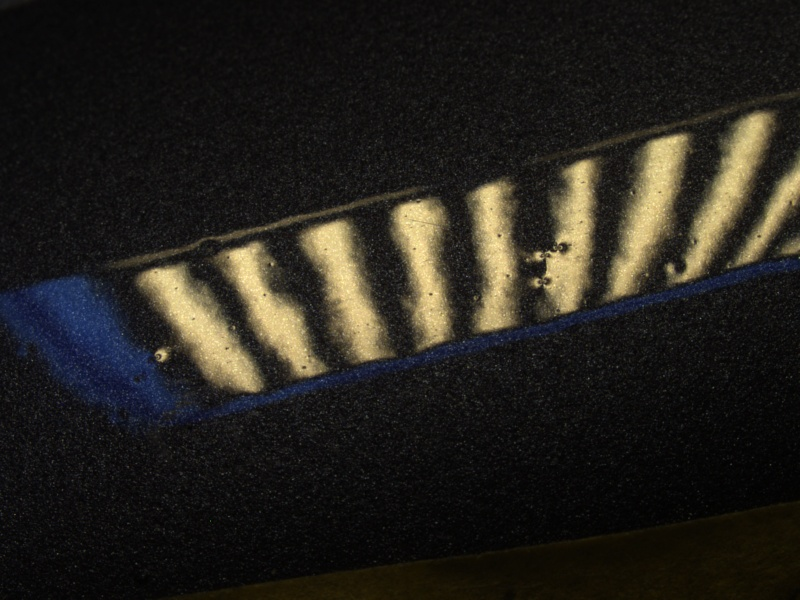bad: (524, 233, 574, 267), (657, 252, 694, 280), (525, 270, 559, 294)
